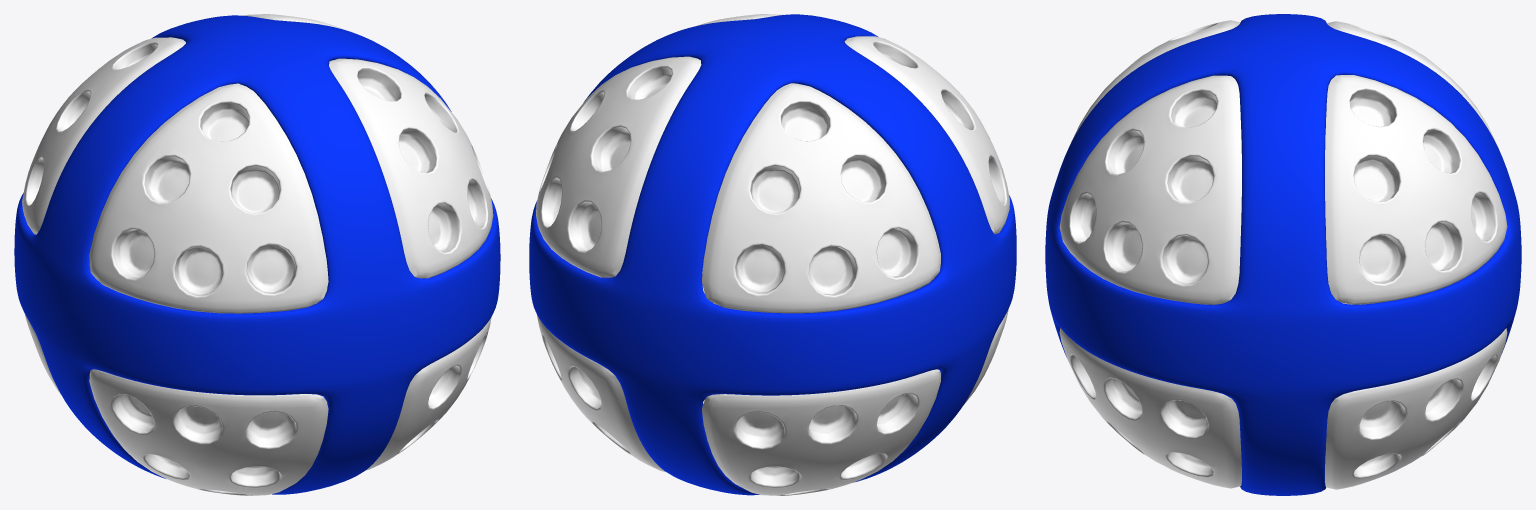
File: gp_ball.glb
The picture shows the model from 3 angles, left to right: view 1: azimuth 30°, elevation 25°; view 2: azimuth 150°, elevation 25°; view 3: azimuth 270°, elevation 25°; orthographic projection.
Visible parts, largest first — view 1: ball; view 2: ball; view 3: ball.
Boxes of the visible parts, x1,y1,x2,y2 form: ball: (14,14,500,495); ball: (529,14,1016,495); ball: (1045,14,1521,495).
Size of the model in its own units: 0.0774 by 0.0772 by 0.0774.
